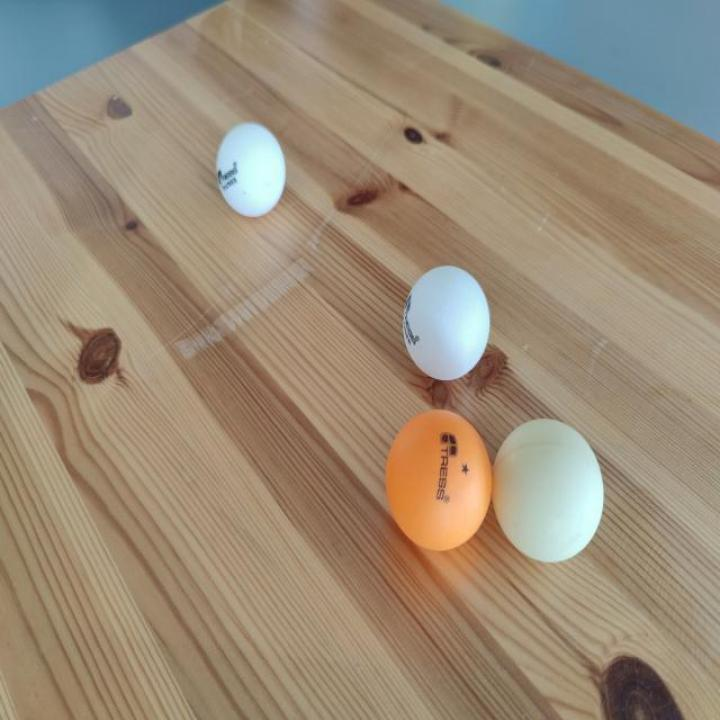orange: (384, 411, 496, 556)
white: (492, 419, 606, 567), (401, 266, 492, 384), (214, 123, 288, 221)
